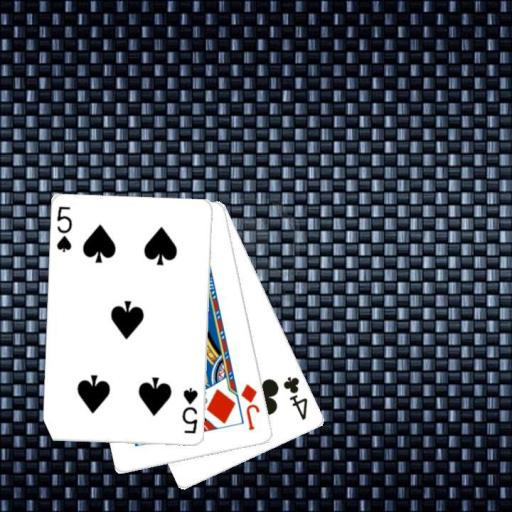4C: (280, 373, 310, 422)
5S: (179, 385, 200, 436), (54, 204, 74, 255)
JD: (238, 381, 262, 432)
